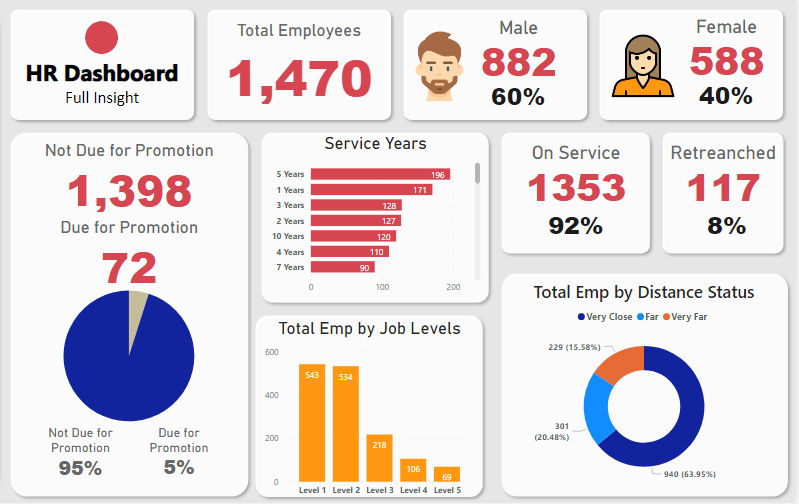

This screenshot's page, from the dashboard's own definition file:
{"tool":"powerbi","page":{"name":"Page 1","canvas":[1280,720],"ordinal":0},"visuals":[{"type":"shape","box":[8.5,1.4,149.1,718.6],"z":0},{"type":"shape","box":[158,10,278.8,174.7],"z":1000},{"type":"shape","box":[436.9,10,278.8,174.7],"z":2000},{"type":"shape","box":[715.7,10,278.8,174.7],"z":3000},{"type":"shape","box":[994.6,10,278.8,174.7],"z":4000},{"type":"shape","box":[157.6,184.6,356.4,535.4],"z":5000},{"type":"shape","box":[514.1,184.6,340.8,259.9],"z":6000},{"type":"shape","box":[505.6,444.5,340.8,275.5],"z":7000},{"type":"shape","box":[854.9,184.6,228.6,190.3],"z":8000},{"type":"shape","box":[854.9,384.9,424.6,335.1],"z":9000},{"type":"shape","box":[1083.6,184.6,190.3,190.3],"z":10000},{"type":"textbox","box":[163.1,80.6,267.1,60.5],"z":11000},{"type":"textbox","box":[163.1,124.2,267.1,60.5],"z":12000},{"type":"shape","box":[267.2,28.5,60.5,60.5],"z":13000},{"type":"card","title":"Total Employees","fields":{"Values":["All Measures.Total Emp"]},"box":[457,35.2,238.5,122.6],"z":14000},{"type":"card","title":"Male","fields":{"Values":["All Measures.Male"]},"box":[809.8,28.5,157.9,95.7],"z":15000},{"type":"card","fields":{"Values":["All Measures.% Male"]},"box":[833.3,119.2,109.2,47],"z":16000},{"type":"card","fields":{"Values":["All Measures.% Female"]},"box":[1128.9,117.4,109.2,47],"z":17000},{"type":"card","title":"Female","fields":{"Values":["All Measures.Female"]},"box":[1105.3,26.7,157.9,95.7],"z":18000},{"type":"image","box":[719.1,45.3,114.2,109.2],"z":19000},{"type":"image","box":[1011.4,48.6,107.5,102.5],"z":20000},{"type":"card","title":"Due for Promotion","fields":{"Values":["All Measures.Due for Promotion"]},"box":[186.4,315.7,298.9,106.4],"z":21000},{"type":"card","title":"Due for Promotion","fields":{"Values":["All Measures.% Due for Promotion"]},"box":[328,609.2,156.2,78.1],"z":22000},{"type":"card","title":"Not Due for Promotion","fields":{"Values":["All Measures.Not due for Promotion"]},"box":[186.4,205.7,298.9,106.4],"z":23000},{"type":"pieChart","title":"Due for Promotion","fields":{"Y":["All Measures.Due for Promotion","All Measures.Not due for Promotion"]},"box":[150.5,379.2,369.2,264.1],"z":24000},{"type":"card","title":"Not Due for Promotion","fields":{"Values":["All Measures.% Not Due for Promotion"]},"box":[174.7,609.2,183.2,79.5],"z":25000},{"type":"clusteredBarChart","title":"Service Years","fields":{"Y":["All Measures.Total Emp"],"Category":["HR Analytics Data.Service Years"]},"box":[531.1,196,308.2,235.7],"z":26000},{"type":"clusteredColumnChart","fields":{"Y":["All Measures.Total Emp"],"Category":["HR Analytics Data.Job Levels"]},"box":[522.6,458.7,308.2,261.3],"z":27000},{"type":"card","title":"Retreanched","fields":{"Values":["All Measures.On Service"]},"box":[1090.7,205.9,176.1,95.1],"z":27001},{"type":"card","fields":{"Values":["All Measures.% Will be Retreanched"]},"box":[1131.8,301.1,103.7,46.9],"z":27002},{"type":"card","title":"On Service","fields":{"Values":["All Measures.On Service"]},"box":[881.9,205.9,176.1,95.1],"z":27003},{"type":"card","fields":{"Values":["All Measures.% On Service"]},"box":[917.4,301.1,103.7,46.9],"z":27004},{"type":"donutChart","fields":{"Category":["HR Analytics Data.Distance Status"],"Y":["All Measures.Total Emp"]},"box":[870.5,403.3,392,298.2],"z":27005}]}

Visuals, with their boxes in screenshot pixels (x1, y1, x2, y2):
shape: select_region(0, 69, 85, 496)
shape: select_region(85, 75, 251, 178)
shape: select_region(251, 75, 417, 178)
shape: select_region(417, 75, 582, 178)
shape: select_region(582, 75, 748, 178)
shape: select_region(85, 178, 297, 496)
shape: select_region(297, 178, 499, 333)
shape: select_region(292, 333, 494, 496)
shape: select_region(499, 178, 635, 291)
shape: select_region(499, 297, 751, 496)
shape: select_region(635, 178, 748, 291)
textbox: select_region(89, 117, 247, 152)
textbox: select_region(89, 142, 247, 178)
shape: select_region(150, 86, 186, 122)
"Total Employees" card: select_region(263, 90, 405, 162)
"Male" card: select_region(473, 86, 566, 142)
card - All Measures.% Male: select_region(486, 139, 551, 167)
card - All Measures.% Female: select_region(662, 138, 727, 166)
"Female" card: select_region(648, 85, 742, 141)
image: select_region(419, 96, 486, 160)
image: select_region(592, 98, 656, 158)
"Due for Promotion" card: select_region(102, 256, 280, 319)
"Due for Promotion" card: select_region(186, 430, 279, 477)
"Not Due for Promotion" card: select_region(102, 191, 280, 254)
"Due for Promotion" pieChart: select_region(81, 294, 300, 451)
"Not Due for Promotion" card: select_region(95, 430, 204, 478)
"Service Years" clusteredBarChart: select_region(307, 185, 490, 325)
clusteredColumnChart - All Measures.Total Emp x HR Analytics Data.Job Levels: select_region(302, 341, 485, 496)
"Retreanched" card: select_region(639, 191, 744, 247)
card - All Measures.% Will be Retreanched: select_region(664, 247, 725, 275)
"On Service" card: select_region(515, 191, 620, 247)
card - All Measures.% On Service: select_region(536, 247, 598, 275)
donutChart - HR Analytics Data.Distance Status x All Measures.Total Emp: select_region(509, 308, 741, 485)
